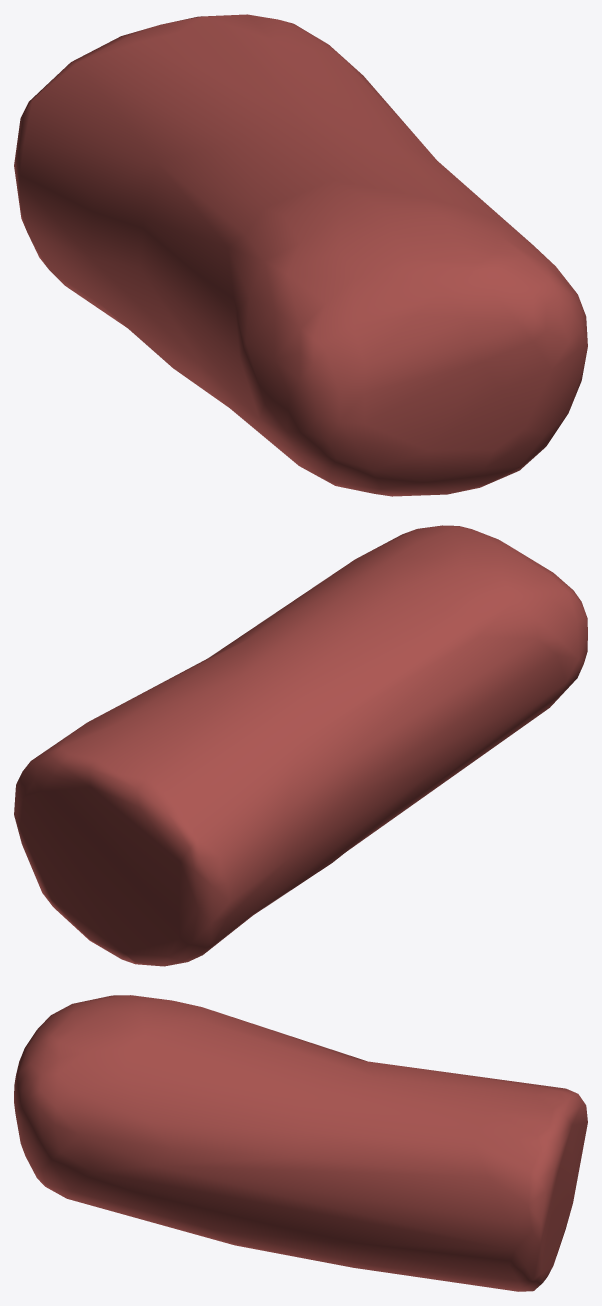
The model's file is FMA50737.glb.
The picture shows the model from 3 angles, top to bottom: view 1: azimuth 30°, elevation 25°; view 2: azimuth 150°, elevation 25°; view 3: azimuth 270°, elevation 25°; orthographic projection. The views are drawn at different scales.
Visible parts, largest first — view 1: FMA50737; view 2: FMA50737; view 3: FMA50737.
Boxes of the visible parts, <box> form: FMA50737: <box>14,14,587,496</box>; FMA50737: <box>14,525,587,966</box>; FMA50737: <box>14,995,587,1291</box>.
Size of the model in its own units: 0.0134 by 0.0105 by 0.0239.
